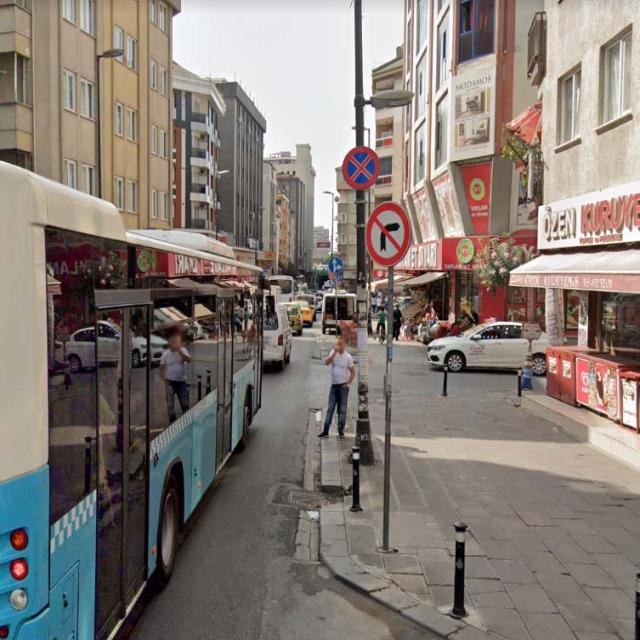ilerisag: (328, 257, 344, 274)
sagadonulmez: (366, 202, 411, 265)
